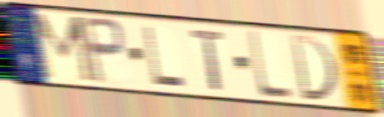D: (288, 32, 341, 105)
L: (246, 28, 294, 102), (141, 24, 187, 89)
M: (31, 11, 98, 86)
P: (80, 15, 127, 88)
T: (189, 28, 227, 93)
